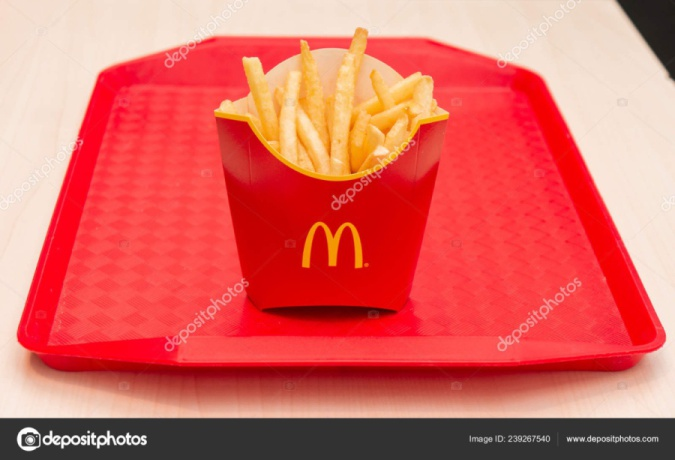mcdonalds: (288, 214, 376, 280)
